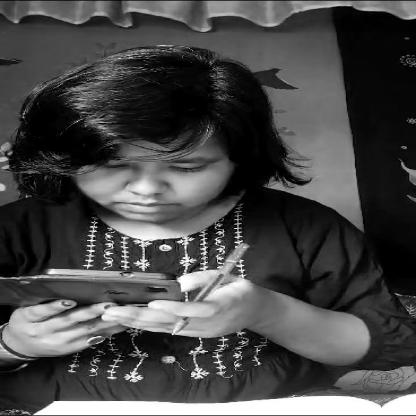Normal: (42, 76, 283, 222)
